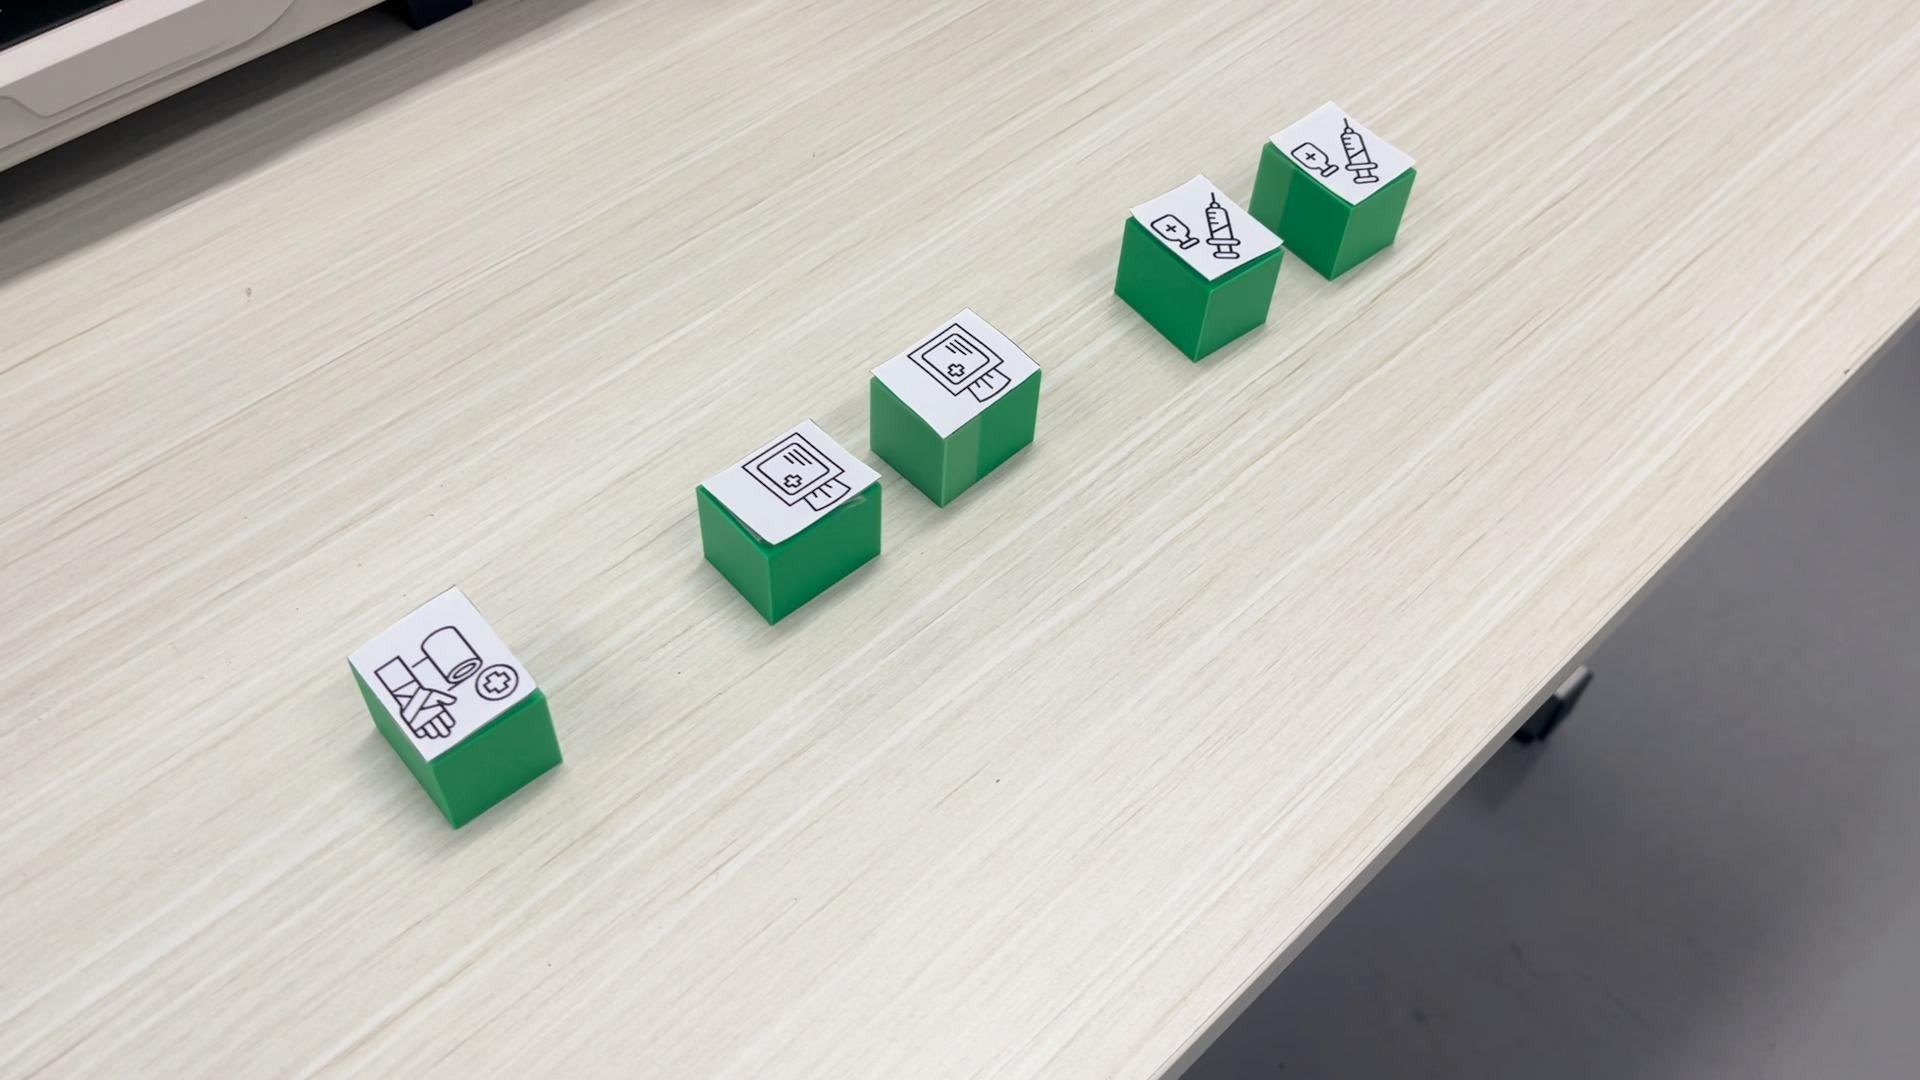Bandages: (342, 584, 564, 829)
Gauze: (695, 418, 884, 624), (866, 306, 1044, 506)
antiseptic cream: (1113, 170, 1288, 367), (1245, 102, 1420, 280)
